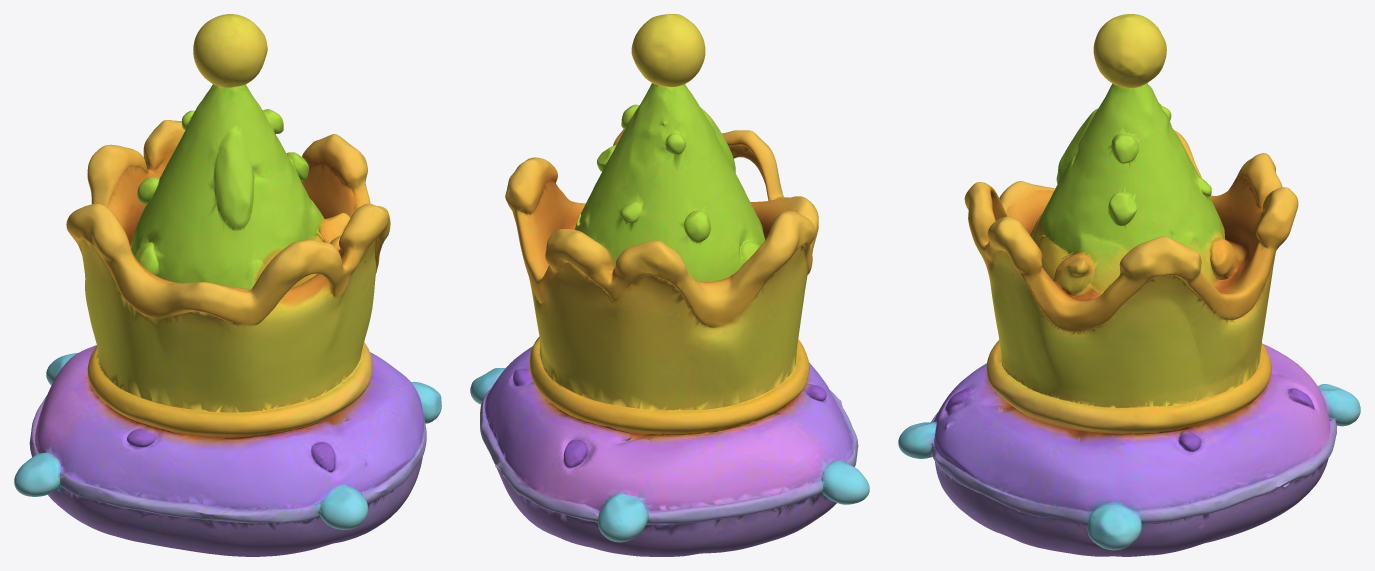
File: env_nest_crown_01.glb
3 renders of one model, left to right at view 1: azimuth 30°, elevation 25°; view 2: azimuth 150°, elevation 25°; view 3: azimuth 270°, elevation 25°, orthographic.
Visible parts, largest first — view 1: tripo_node_4b86579e-86a0-43f4-a635-c7040dab0ac6; view 2: tripo_node_4b86579e-86a0-43f4-a635-c7040dab0ac6; view 3: tripo_node_4b86579e-86a0-43f4-a635-c7040dab0ac6.
Boxes of the visible parts, bbox=[...] form: tripo_node_4b86579e-86a0-43f4-a635-c7040dab0ac6: bbox=[14, 14, 441, 556]; tripo_node_4b86579e-86a0-43f4-a635-c7040dab0ac6: bbox=[470, 14, 869, 556]; tripo_node_4b86579e-86a0-43f4-a635-c7040dab0ac6: bbox=[898, 14, 1360, 556].
Size of the model in its own units: 0.9007 by 0.9999 by 0.8812.
Materials: 1 (1 with a texture image).
